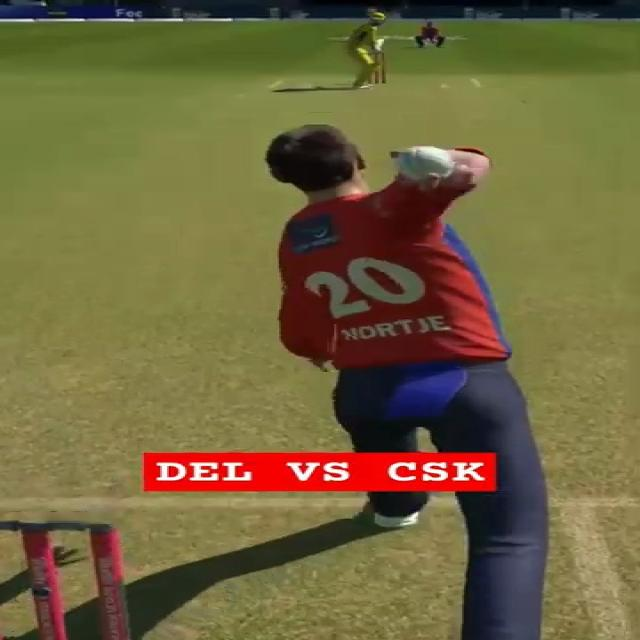ball: (388, 144, 457, 182)
